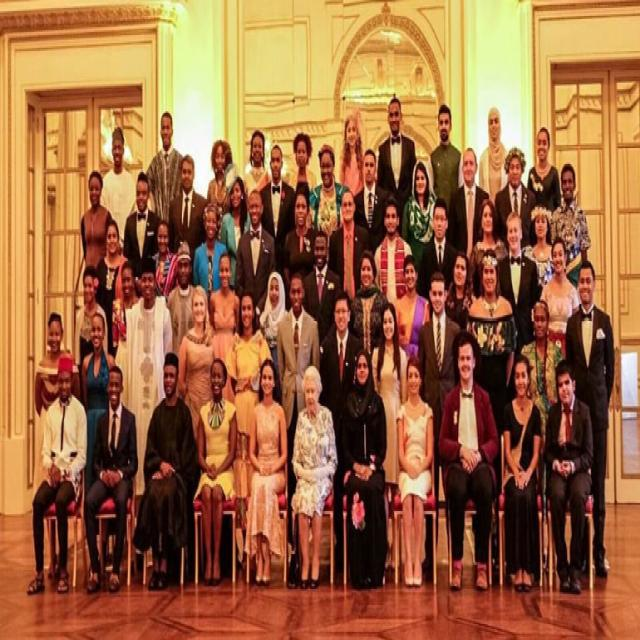body: (352, 148, 640, 640), (436, 327, 499, 596), (564, 256, 615, 581), (26, 352, 88, 597), (114, 253, 174, 498), (418, 269, 462, 584), (516, 296, 564, 580), (275, 274, 323, 554), (336, 347, 389, 594), (143, 352, 197, 594), (34, 310, 82, 582), (83, 363, 139, 595), (542, 355, 594, 597), (224, 286, 272, 535), (319, 290, 362, 562), (289, 363, 339, 591), (499, 350, 544, 594), (243, 355, 289, 591), (369, 299, 408, 572), (193, 355, 238, 589), (466, 247, 518, 442), (395, 353, 435, 589), (176, 282, 223, 444), (496, 209, 540, 358), (81, 312, 117, 494), (234, 188, 278, 331), (98, 124, 143, 258), (548, 161, 592, 290), (446, 145, 492, 266), (327, 186, 373, 302), (538, 234, 580, 361), (303, 228, 342, 363), (467, 198, 513, 310), (258, 143, 296, 277), (415, 194, 461, 303), (209, 250, 241, 406), (494, 145, 538, 255), (376, 96, 418, 210), (122, 170, 159, 296), (144, 110, 183, 228), (372, 194, 413, 306), (426, 100, 466, 214), (167, 152, 210, 256), (348, 247, 388, 358), (281, 180, 317, 299), (94, 220, 125, 358), (73, 262, 111, 372), (394, 251, 432, 360), (402, 157, 437, 270), (220, 172, 253, 287), (258, 269, 291, 381), (308, 142, 346, 236), (193, 202, 228, 303), (477, 104, 511, 205), (525, 124, 563, 213), (80, 167, 113, 269), (167, 239, 198, 341), (522, 198, 554, 288), (242, 127, 273, 212), (443, 248, 473, 333), (337, 110, 365, 194), (206, 138, 234, 215), (152, 217, 179, 296), (114, 258, 139, 341), (284, 131, 318, 191)
